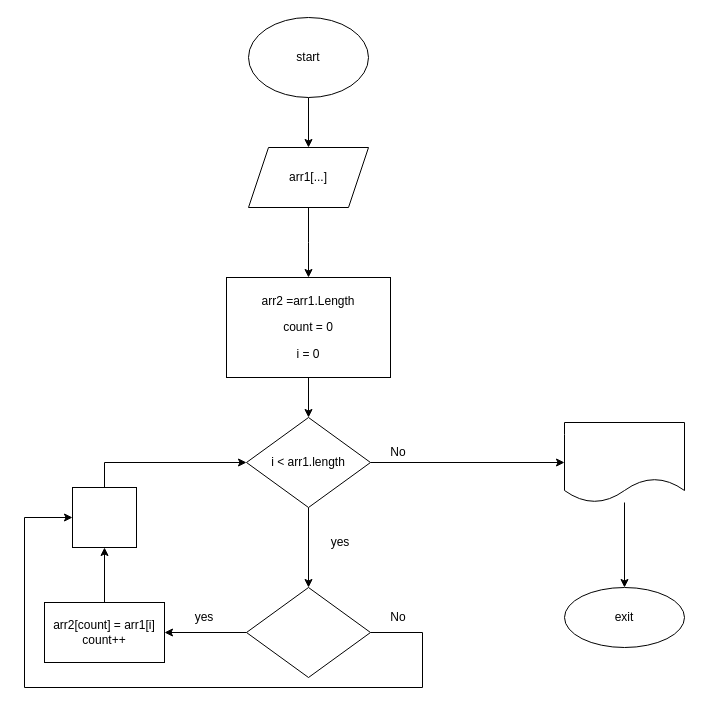
The diagram is 702 pixels wide and 713 high, and some of its shapes have lost their labels. The box of each missing label's shape, as (x1, y1, x2, y2) in pixels:
arr1[i].length <= 3: (246, 586, 370, 678)
arr2[...]: (564, 422, 684, 502)
i++: (72, 486, 136, 548)
